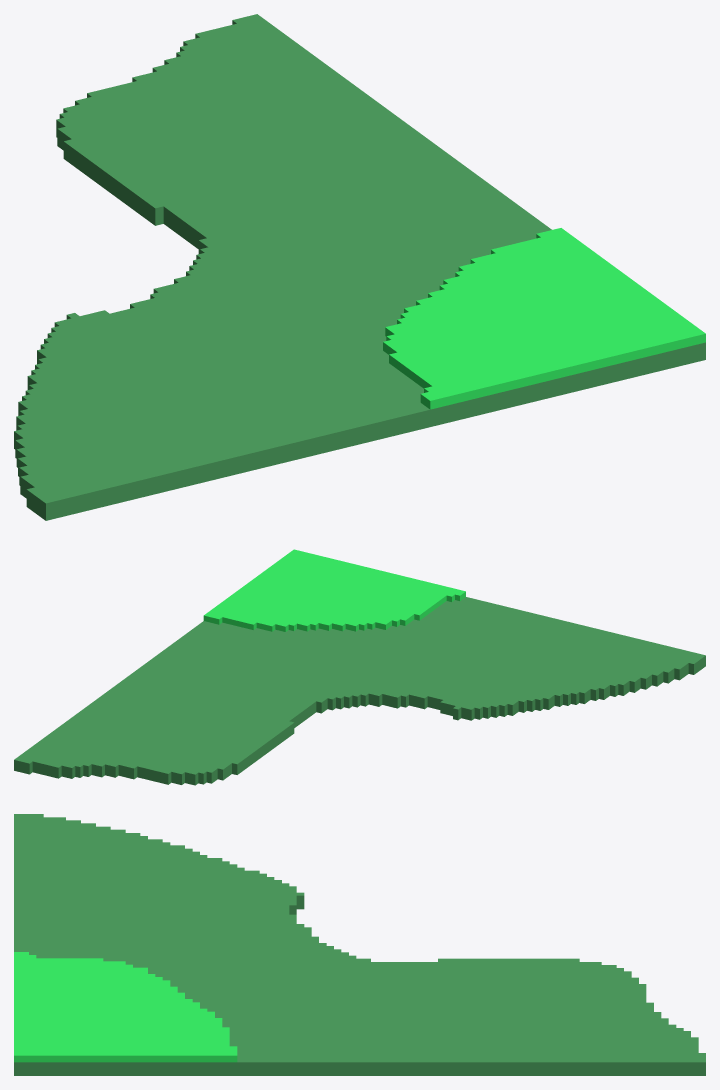
File: TerrainPieces-8.obj
3 renders of one model, top to bottom at view 1: azimuth 30°, elevation 25°; view 2: azimuth 150°, elevation 25°; view 3: azimuth 270°, elevation 25°, orthographic. The views are drawn at different scales.
Visible parts, largest first — view 1: TerrainPieces-8; view 2: TerrainPieces-8; view 3: TerrainPieces-8.
Boxes of the visible parts, left/top/right/bottom form: TerrainPieces-8: left=14, top=14, right=705, bottom=520; TerrainPieces-8: left=14, top=549, right=705, bottom=785; TerrainPieces-8: left=14, top=814, right=705, bottom=1075.
Size of the model in its own units: 79 by 3 by 93.
Materials: 1 (1 with a texture image).
